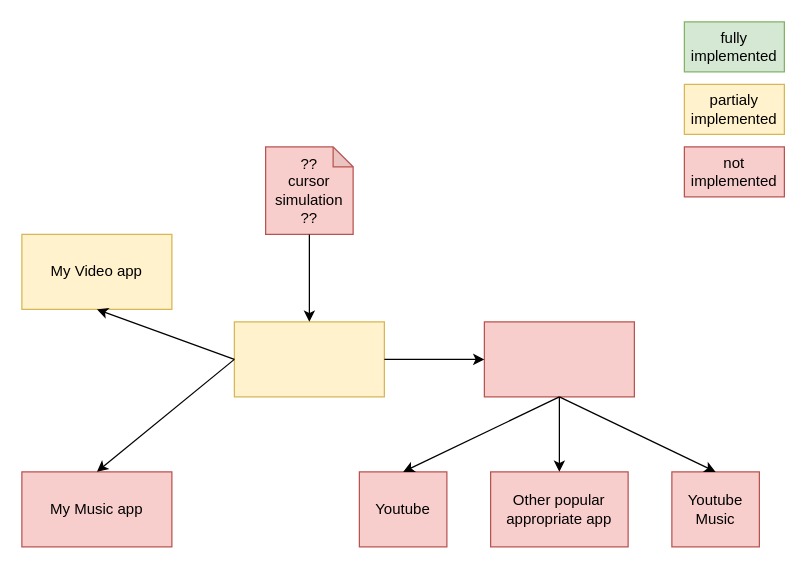
Some shapes in this 806 by 569 pixel diagram are drawn without their labels. The shapes that lost their labels are listed below. From the top down, each one's centre as x and y in pixels, then its label:
At [308,359]: "HadPose Core (package-sdk) npm/cdn".
At [558,359]: "Crome extension".
